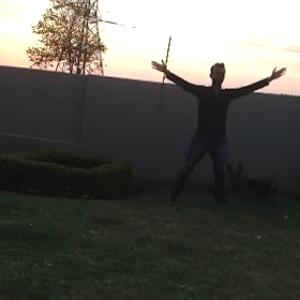takeoff: (153, 61, 276, 197)
